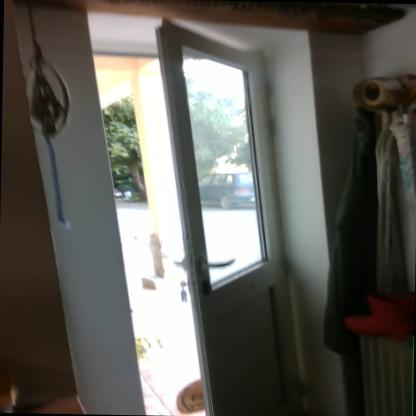semi: (54, 11, 309, 416)
